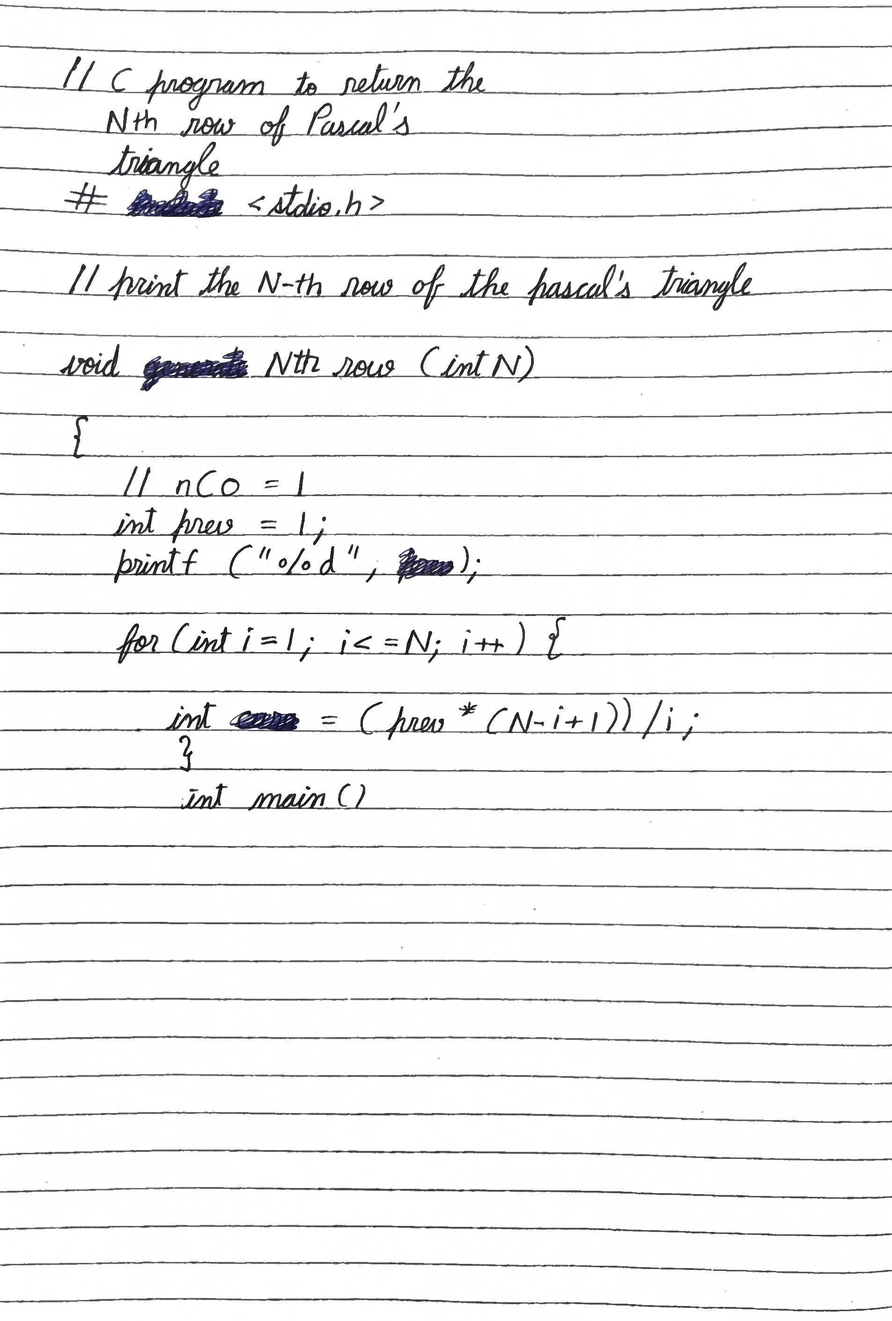cuttings: (139, 345, 249, 392), (125, 186, 226, 219), (394, 547, 454, 585), (229, 709, 301, 732)
